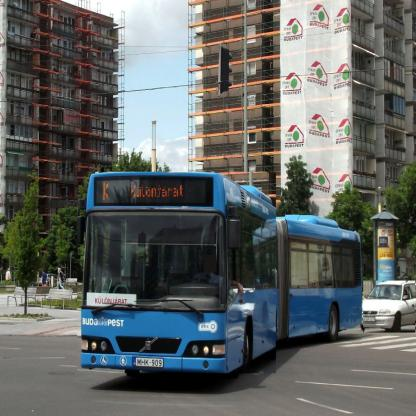bus: (78, 173, 277, 375), (286, 214, 363, 346)
car: (364, 282, 416, 334)
